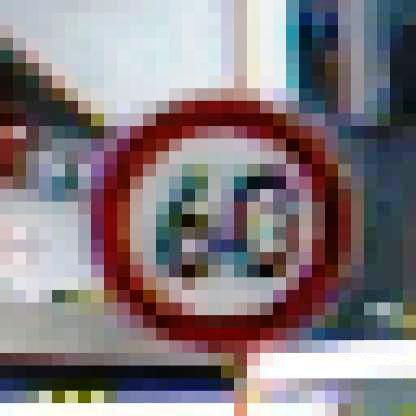Speed Limit -60-: (84, 87, 360, 357)
